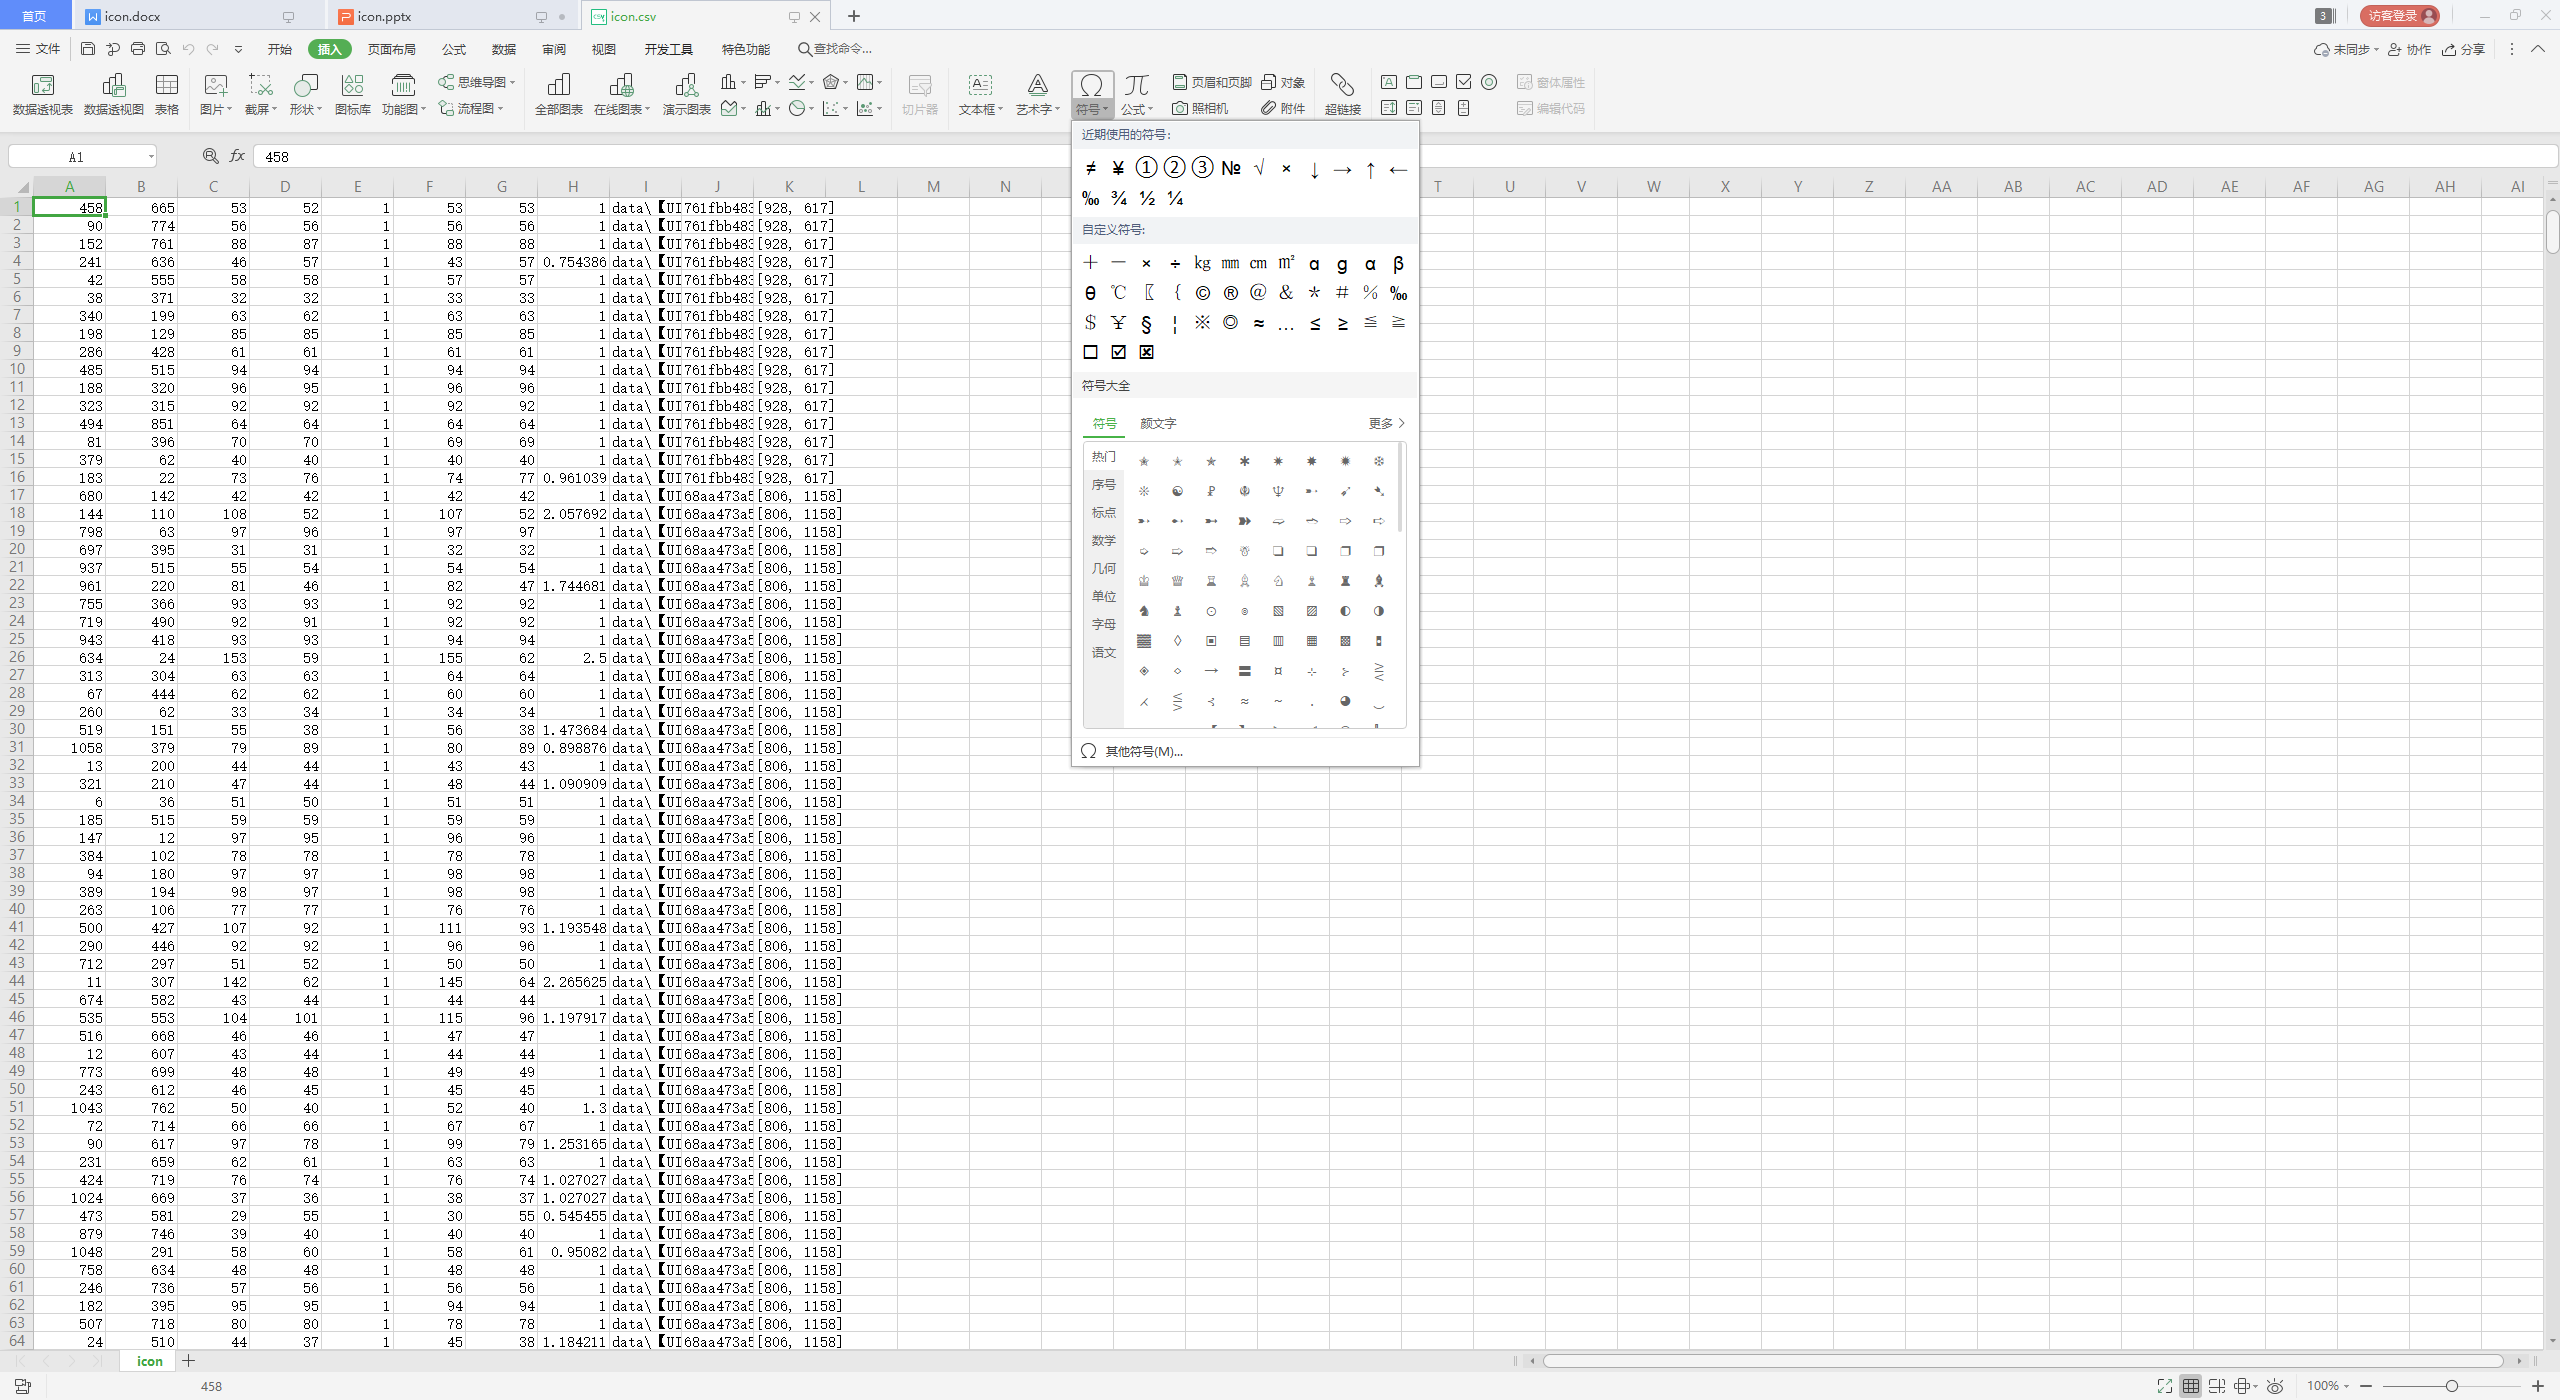character: (1103, 741, 1193, 762), (1079, 128, 1176, 145), (1072, 221, 1152, 238), (10, 102, 76, 119), (81, 102, 147, 119), (636, 41, 698, 59), (359, 41, 422, 57), (714, 41, 777, 57), (814, 41, 877, 57), (357, 9, 421, 24), (102, 10, 165, 26), (609, 9, 671, 24), (1079, 378, 1134, 395), (2365, 5, 2415, 24), (1134, 414, 1177, 434), (1191, 98, 1234, 119), (1191, 76, 1252, 90), (2331, 40, 2372, 59), (531, 103, 584, 117), (1088, 472, 1121, 495), (1088, 529, 1121, 552), (1086, 641, 1119, 664), (1088, 555, 1119, 578), (591, 103, 641, 117), (1538, 102, 1588, 116), (1088, 500, 1121, 521), (1088, 614, 1121, 634), (1360, 412, 1393, 433), (134, 1352, 167, 1372), (662, 102, 710, 116), (1091, 412, 1122, 433), (1090, 447, 1121, 467), (1088, 584, 1119, 605), (195, 1376, 226, 1397), (2307, 1376, 2339, 1395), (459, 76, 503, 90), (1538, 78, 1588, 90), (2405, 38, 2432, 59), (2458, 38, 2486, 59), (1326, 102, 1364, 116), (381, 102, 417, 116), (957, 103, 995, 116), (1014, 103, 1052, 116), (265, 43, 295, 59), (153, 102, 183, 117), (284, 102, 314, 117), (1072, 102, 1102, 117), (1279, 76, 1308, 91), (334, 103, 371, 116), (902, 103, 938, 116), (21, 9, 48, 24), (438, 41, 465, 57), (314, 41, 341, 57), (240, 102, 267, 117), (490, 41, 517, 57), (590, 41, 617, 57), (1279, 98, 1307, 114), (264, 148, 291, 164), (457, 102, 491, 114), (1115, 102, 1145, 116), (34, 41, 62, 55), (195, 102, 222, 116), (538, 41, 565, 55), (66, 152, 93, 166)
icon: (1071, 71, 1114, 100), (545, 67, 572, 97), (338, 71, 365, 98), (152, 71, 181, 97), (1327, 71, 1357, 97), (291, 72, 319, 98), (102, 71, 129, 97), (248, 71, 276, 97), (607, 71, 634, 97), (907, 72, 934, 98), (965, 72, 995, 97), (674, 71, 700, 97), (202, 72, 229, 97), (1122, 72, 1150, 97), (29, 72, 55, 97), (390, 72, 415, 97), (1162, 155, 1188, 179), (2177, 1372, 2203, 1397), (1026, 72, 1050, 97), (1134, 155, 1158, 179), (1189, 155, 1214, 178), (1219, 155, 1243, 178), (2205, 1374, 2227, 1397), (1331, 160, 1353, 181), (1377, 97, 1400, 117), (2231, 1374, 2251, 1397), (1358, 159, 1381, 179), (1079, 159, 1103, 178), (1165, 184, 1184, 209), (2313, 5, 2338, 24), (1133, 510, 1157, 529), (1108, 184, 1127, 209), (1164, 510, 1188, 529), (1233, 510, 1257, 529), (226, 145, 247, 166), (786, 71, 807, 91), (750, 71, 771, 91), (2419, 5, 2439, 26), (1077, 740, 1098, 760), (2155, 1374, 2176, 1395), (2263, 1374, 2284, 1395), (1079, 312, 1100, 333), (1377, 72, 1400, 91), (1138, 186, 1157, 209), (1198, 510, 1221, 529), (200, 147, 221, 166), (436, 72, 457, 91), (853, 72, 874, 91), (821, 98, 841, 117), (1081, 186, 1100, 207), (1250, 155, 1269, 176), (1191, 253, 1212, 272), (1388, 160, 1408, 179), (1200, 572, 1221, 591), (1369, 660, 1388, 681), (1081, 252, 1100, 272), (1110, 252, 1129, 272), (1138, 252, 1157, 272), (1221, 252, 1241, 271), (1250, 255, 1271, 274), (1110, 281, 1129, 302), (1141, 281, 1160, 302), (1140, 314, 1158, 334), (336, 7, 355, 26), (590, 7, 609, 26), (1258, 72, 1277, 91), (1248, 283, 1267, 302), (1453, 98, 1472, 117), (1453, 71, 1472, 90), (1479, 72, 1498, 91), (1515, 72, 1534, 91), (1403, 72, 1422, 91), (1515, 98, 1534, 117), (1388, 283, 1407, 302), (1167, 691, 1186, 710), (14, 1376, 33, 1395), (1277, 159, 1296, 178), (1277, 253, 1296, 272), (1083, 283, 1102, 302), (1167, 283, 1186, 302), (1108, 310, 1127, 329), (1165, 316, 1184, 334), (1250, 316, 1269, 334), (1203, 691, 1222, 710), (1234, 691, 1253, 710), (1269, 691, 1288, 710), (1338, 691, 1357, 710), (1302, 695, 1321, 714), (1307, 159, 1324, 179), (2503, 38, 2520, 59), (719, 98, 738, 116), (436, 98, 455, 116), (719, 72, 738, 90), (796, 40, 814, 59), (788, 98, 807, 116), (821, 72, 840, 90), (1171, 72, 1189, 90), (1171, 98, 1189, 116), (1258, 98, 1277, 116), (1108, 159, 1126, 178), (1403, 98, 1422, 116), (1427, 98, 1446, 116), (1429, 72, 1448, 90), (1302, 483, 1322, 498), (1336, 483, 1357, 498), (1391, 253, 1405, 276), (103, 40, 121, 57), (845, 7, 862, 24), (753, 98, 771, 116), (1222, 284, 1239, 302), (1134, 602, 1152, 619), (12, 1352, 29, 1369), (88, 1352, 105, 1369), (1108, 345, 1127, 360), (1360, 314, 1379, 329), (1134, 633, 1153, 648), (1133, 484, 1153, 498), (1202, 484, 1222, 498), (1233, 484, 1253, 498), (1269, 484, 1289, 498), (1334, 453, 1355, 467), (79, 40, 97, 55), (179, 41, 197, 57), (153, 40, 171, 55), (279, 9, 297, 24), (84, 9, 102, 24), (14, 40, 31, 55), (786, 9, 803, 24), (857, 100, 874, 116), (1221, 314, 1238, 329), (1195, 284, 1210, 302), (1334, 259, 1350, 276), (1277, 283, 1293, 300), (1389, 314, 1407, 329), (2313, 41, 2331, 57), (2439, 41, 2457, 57), (1236, 633, 1253, 648), (1303, 633, 1321, 648), (36, 1352, 53, 1367), (179, 1352, 197, 1367), (2529, 1378, 2546, 1393), (2443, 1378, 2460, 1393), (1195, 312, 1210, 329), (1279, 319, 1295, 336), (1307, 316, 1322, 333), (1334, 317, 1352, 333), (2543, 1334, 2558, 1352), (129, 40, 145, 55), (807, 9, 822, 24), (1362, 283, 1377, 298), (2388, 41, 2403, 57), (1238, 572, 1253, 588), (1236, 662, 1252, 678), (64, 1352, 79, 1367), (2358, 1376, 2374, 1391), (1308, 257, 1324, 272), (1308, 283, 1324, 298), (1334, 284, 1350, 300), (203, 41, 221, 55), (2529, 41, 2546, 55), (1303, 545, 1321, 559), (1522, 1353, 1539, 1367), (1338, 545, 1355, 559), (1339, 574, 1357, 588), (1203, 664, 1221, 678), (145, 145, 155, 167), (534, 9, 548, 24), (1138, 345, 1153, 359), (1083, 345, 1098, 359), (1364, 257, 1377, 272), (2538, 7, 2553, 21), (2477, 9, 2493, 22), (1203, 633, 1219, 647), (1303, 603, 1319, 617), (1169, 664, 1184, 678), (1271, 514, 1286, 528), (1203, 543, 1219, 557), (1203, 603, 1219, 617), (1303, 572, 1319, 586), (1203, 453, 1219, 467), (1272, 455, 1288, 469), (1305, 514, 1321, 528), (1338, 514, 1353, 528), (1339, 605, 1353, 621), (2508, 7, 2522, 21), (1271, 603, 1284, 617), (1271, 572, 1284, 586), (1271, 633, 1284, 647), (1271, 543, 1284, 557), (1171, 483, 1184, 497), (1171, 572, 1184, 586), (1138, 453, 1152, 467), (1508, 1353, 1522, 1367), (1171, 455, 1184, 469), (1238, 453, 1252, 467), (1307, 453, 1321, 467), (1372, 572, 1384, 588), (2544, 193, 2557, 209), (555, 9, 567, 22), (772, 76, 784, 90), (2546, 176, 2558, 190), (1138, 572, 1150, 586), (1238, 545, 1252, 557), (1171, 545, 1183, 559), (1338, 634, 1352, 647), (1372, 453, 1384, 467), (1372, 603, 1384, 617), (1398, 417, 1410, 431), (233, 43, 245, 55), (1171, 605, 1183, 617), (1138, 664, 1150, 676), (1372, 634, 1384, 647), (1372, 700, 1384, 712), (1372, 484, 1384, 497), (224, 103, 236, 116), (271, 103, 283, 116), (315, 103, 328, 116), (1339, 666, 1352, 678), (738, 76, 748, 90), (1272, 664, 1283, 678), (1372, 516, 1386, 526), (2341, 1378, 2351, 1391), (2513, 1355, 2524, 1369), (2253, 1379, 2263, 1393), (1140, 693, 1148, 709), (840, 76, 850, 88), (807, 76, 817, 88), (1172, 634, 1183, 647), (1307, 666, 1317, 678), (1372, 545, 1384, 555), (996, 103, 1007, 116), (509, 76, 517, 90), (809, 100, 817, 114), (841, 100, 850, 114), (1100, 103, 1110, 114), (1171, 259, 1181, 269), (1140, 545, 1150, 555), (1239, 605, 1250, 616), (1145, 103, 1155, 114), (2372, 45, 2382, 55), (496, 102, 505, 114), (643, 102, 652, 114), (740, 103, 748, 116), (776, 102, 784, 114), (877, 78, 886, 90), (876, 102, 884, 114), (1055, 102, 1064, 114), (419, 103, 428, 114)
